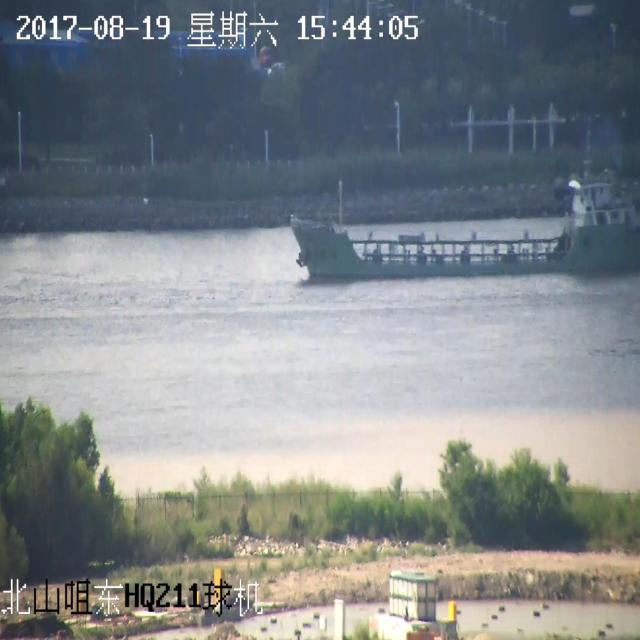houseboat: (272, 146, 640, 290)
